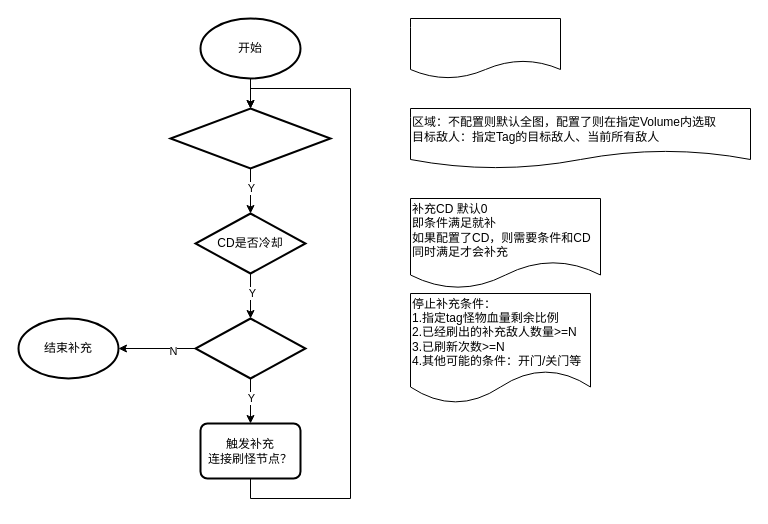
The diagram is 768 pixels wide and 524 high, and some of its shapes have lost their labels. Here are the shapes that lost their labels. From the top down, the box of each, then its label:
(410, 18, 560, 78): 在关卡编辑器中作为节点，可以由条件/Trigger等触发
(169, 107, 331, 169): 判断指定区域内 剩余目标敌人数量<=N
(194, 317, 306, 379): 不满足停止 补充条件
